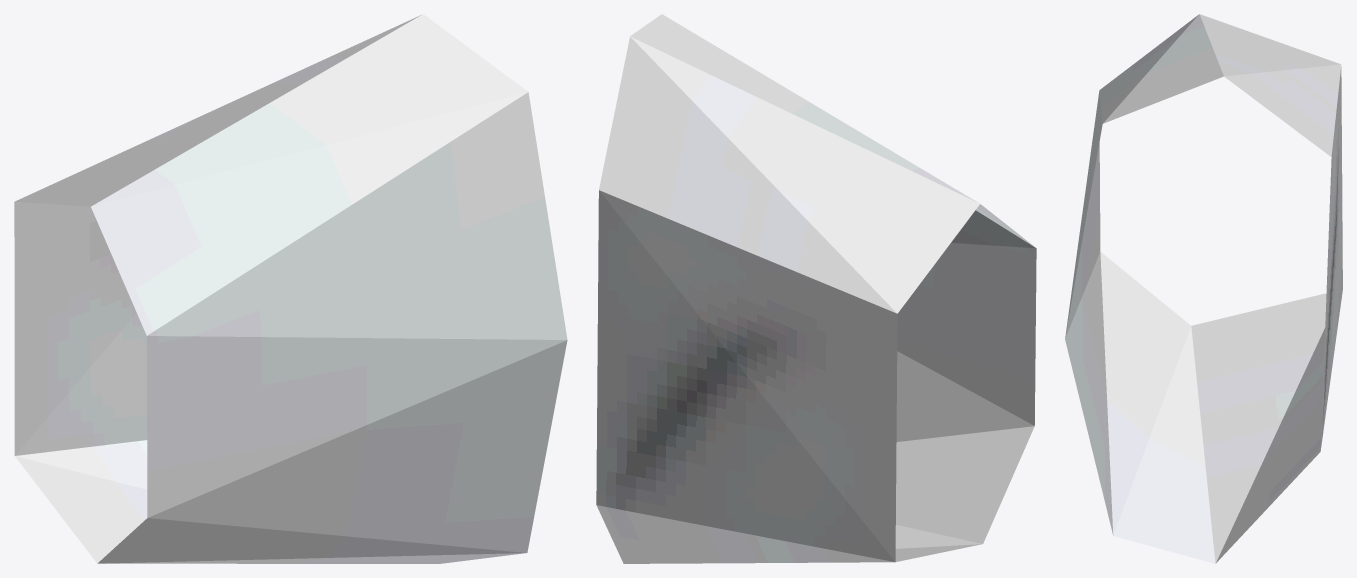
3 renders of one model, left to right at view 1: azimuth 30°, elevation 25°; view 2: azimuth 150°, elevation 25°; view 3: azimuth 270°, elevation 25°, orthographic. The views are drawn at different scales.
Visible parts, largest first — view 1: mesh_ED3C9168F7655DF2; view 2: mesh_ED3C9168F7655DF2; view 3: mesh_ED3C9168F7655DF2.
Part boxes in pixels (x1=…): mesh_ED3C9168F7655DF2: x1=14, y1=14, x2=567, y2=563; mesh_ED3C9168F7655DF2: x1=596, y1=14, x2=1036, y2=563; mesh_ED3C9168F7655DF2: x1=1065, y1=14, x2=1342, y2=563.
Size of the model in its own units: 1.12 by 1.47 by 0.7677.
